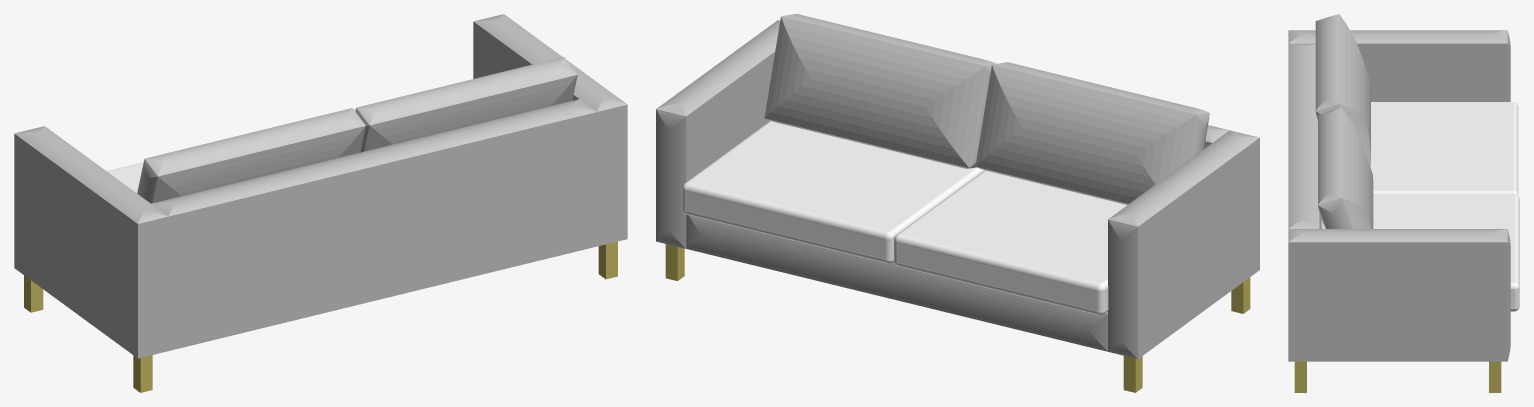
The picture shows the model from 3 angles, left to right: view 1: azimuth 30°, elevation 25°; view 2: azimuth 150°, elevation 25°; view 3: azimuth 270°, elevation 25°; orthographic projection. The views are drawn at different scales.
Visible parts, largest first — view 1: Mesh5 Model, Mesh4 back_cushion2 Model, Mesh3 back_cushion1 Model, Mesh2 seat_cushion2 Model; view 2: Mesh5 Model, Mesh1 seat_cushion1 Model, Mesh3 back_cushion1 Model, Mesh4 back_cushion2 Model, Mesh2 seat_cushion2 Model; view 3: Mesh5 Model, Mesh2 seat_cushion2 Model, Mesh1 seat_cushion1 Model, Mesh3 back_cushion1 Model, Mesh4 back_cushion2 Model.
Boxes of the visible parts, x1,y1,x2,y2 form: Mesh5 Model: [14, 14, 627, 392]; Mesh4 back_cushion2 Model: [137, 108, 365, 203]; Mesh3 back_cushion1 Model: [355, 57, 577, 152]; Mesh2 seat_cushion2 Model: [107, 162, 143, 192]; Mesh5 Model: [656, 20, 1259, 392]; Mesh1 seat_cushion1 Model: [682, 121, 984, 263]; Mesh3 back_cushion1 Model: [764, 14, 996, 168]; Mesh4 back_cushion2 Model: [975, 62, 1209, 204]; Mesh2 seat_cushion2 Model: [894, 170, 1126, 315]; Mesh5 Model: [1288, 30, 1510, 392]; Mesh2 seat_cushion2 Model: [1370, 102, 1518, 195]; Mesh1 seat_cushion1 Model: [1319, 194, 1519, 311]; Mesh3 back_cushion1 Model: [1318, 108, 1373, 228]; Mesh4 back_cushion2 Model: [1315, 14, 1370, 166].
Bounding box in the file's own units: 0.8745 × 0.3567 × 0.4035.
